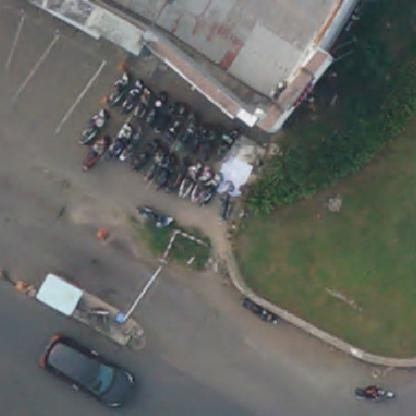Car: (38, 333, 138, 415)
Motorcycle: (350, 382, 398, 406), (242, 298, 277, 328), (76, 108, 107, 138), (82, 136, 105, 172), (120, 127, 140, 163), (132, 136, 152, 171), (216, 126, 237, 156), (178, 158, 193, 200), (107, 74, 128, 102), (186, 169, 204, 201), (110, 119, 126, 154), (167, 156, 183, 191), (142, 96, 160, 126), (145, 144, 160, 180), (162, 103, 178, 136), (121, 78, 136, 112), (197, 176, 214, 204), (132, 87, 146, 118), (154, 152, 166, 186), (193, 126, 205, 154), (204, 129, 216, 157), (181, 113, 191, 142)
